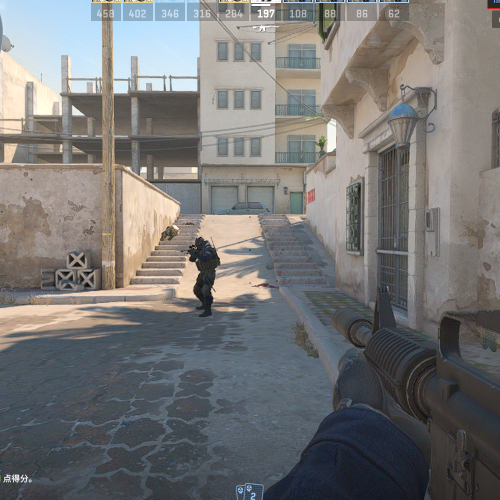ct_body: (188, 237, 220, 318)
ct_head: (194, 236, 205, 249)
